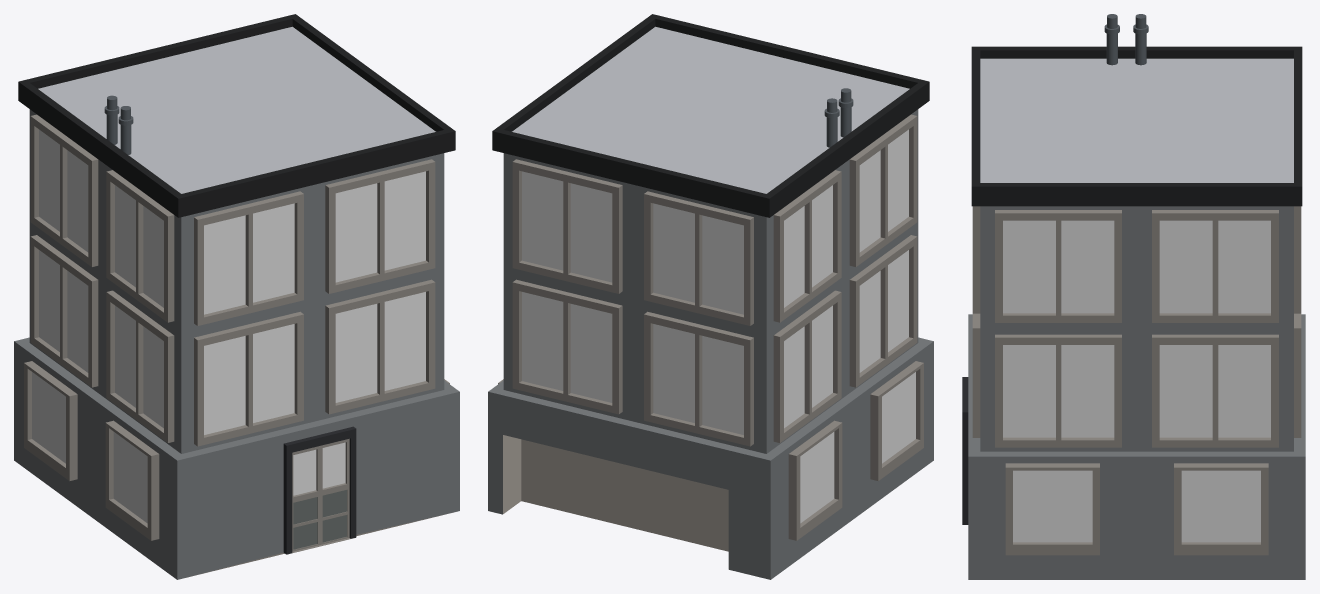
Rendered from SM_Building_01_B.gltf.
The picture shows the model from 3 angles, left to right: view 1: azimuth 30°, elevation 25°; view 2: azimuth 150°, elevation 25°; view 3: azimuth 270°, elevation 25°; orthographic projection. The views are drawn at different scales.
Parts seen in each view (by area): view 1: SM_Building_01_B; view 2: SM_Building_01_B; view 3: SM_Building_01_B.
Part boxes in pixels (x1,y1,x2,y2): SM_Building_01_B: (14,14,459,579); SM_Building_01_B: (488,14,933,579); SM_Building_01_B: (962,14,1305,579).
Bounding box in the file's own units: 3.3 × 4.39 × 3.17.
